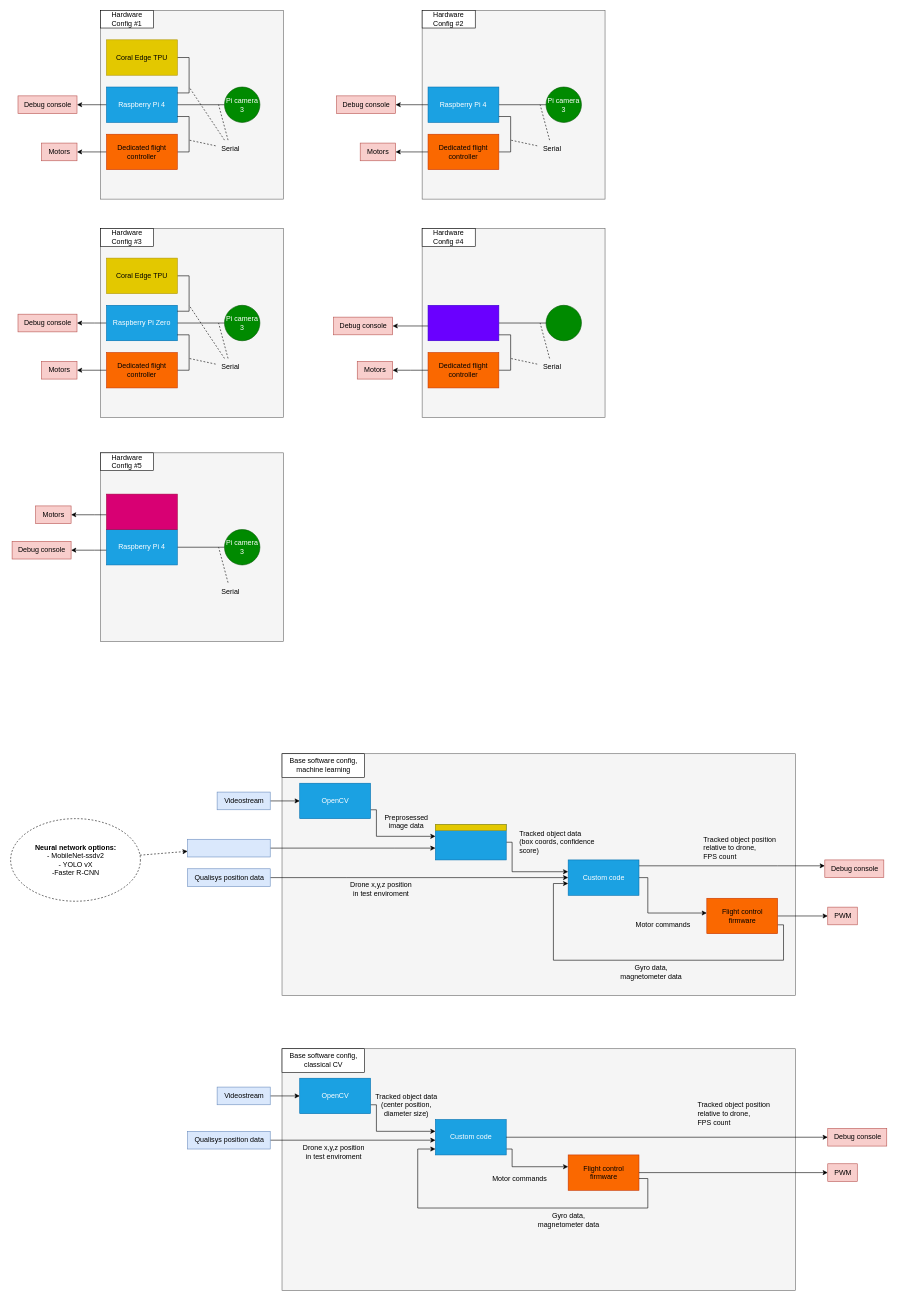
Some shapes in this 897 by 1301 pixel diagram are drawn without their labels. Here are the shapes that lost their labels. From the top down, the box of each, then its label:
(427, 305, 499, 341): Jetson Nano
(545, 305, 581, 341): Camera
(106, 494, 177, 530): NAVIO2 hat
(187, 839, 270, 857): Tensorflow Lite model
(435, 824, 506, 860): Tensorflow Lite interpreter
